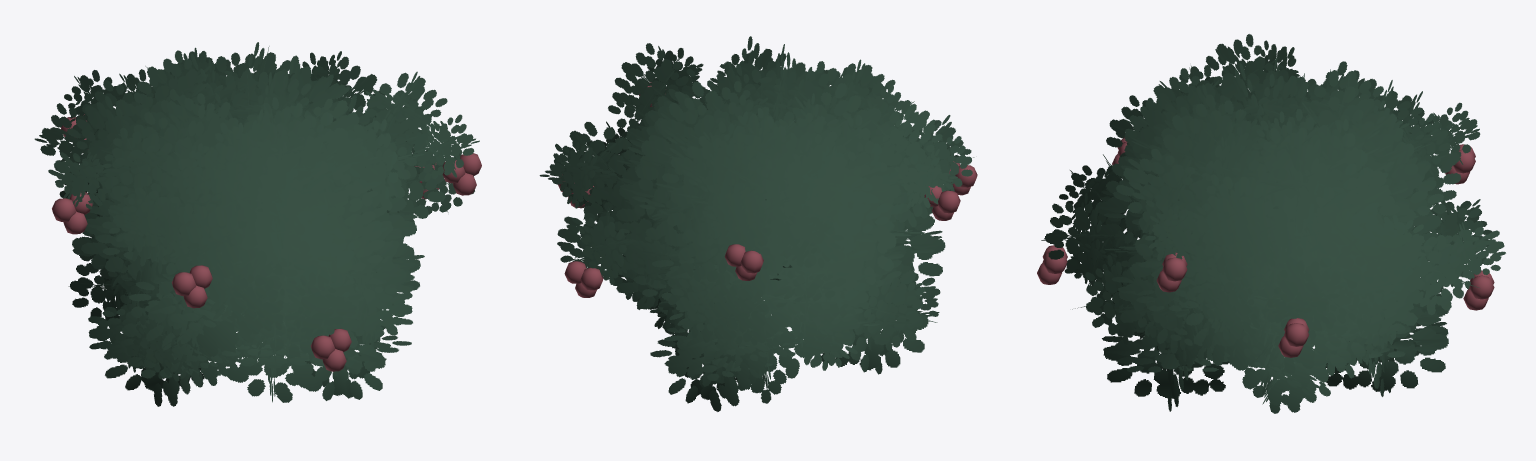
File: berry-bush-fruit-groups.glb
3 renders of one model, left to right at view 1: azimuth 30°, elevation 25°; view 2: azimuth 150°, elevation 25°; view 3: azimuth 270°, elevation 25°, orthographic. The views are drawn at different scales.
Visible parts, largest first — view 1: berry-bush-fruit-groups runtime mesh; view 2: berry-bush-fruit-groups runtime mesh; view 3: berry-bush-fruit-groups runtime mesh.
Boxes of the visible parts, box(x1,y1,x2,y2) form: berry-bush-fruit-groups runtime mesh: box(34, 42, 481, 406); berry-bush-fruit-groups runtime mesh: box(539, 36, 977, 411); berry-bush-fruit-groups runtime mesh: box(1037, 34, 1505, 413).
Size of the model in its own units: 1.27 by 1.05 by 1.3.
2 materials, 1 textured.
